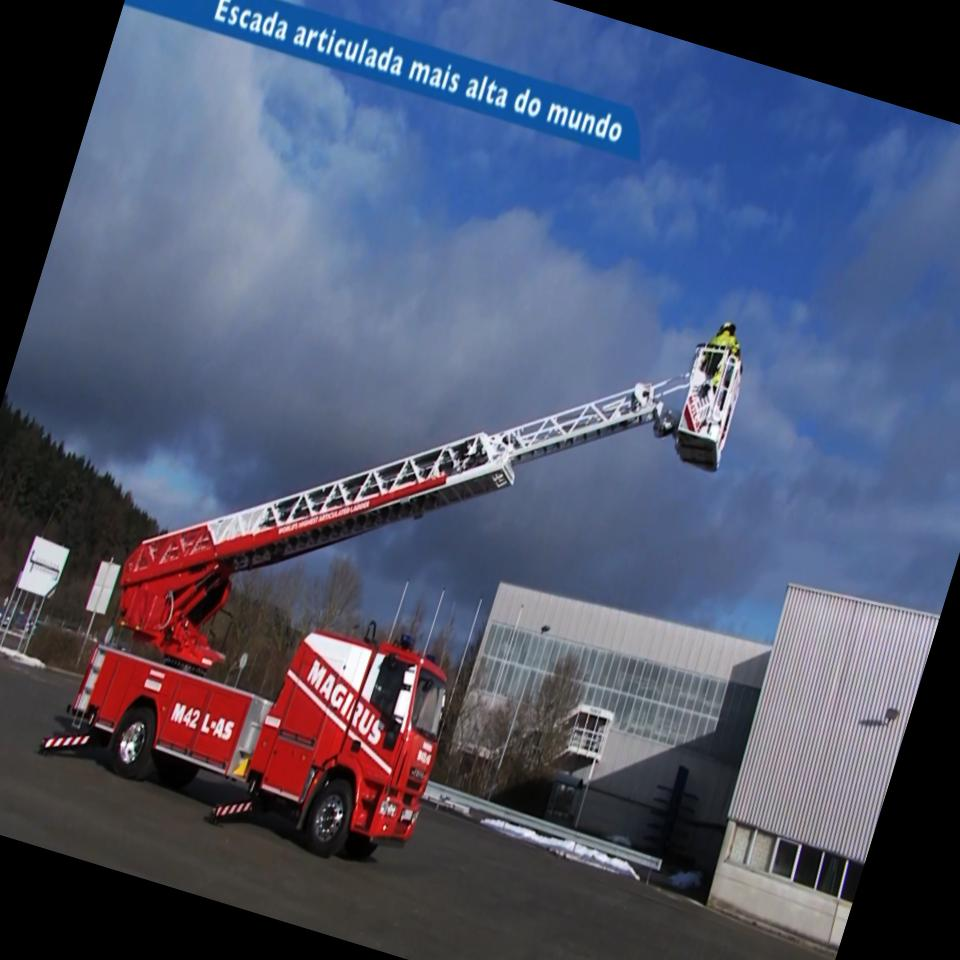viatura: (28, 187, 756, 939)
